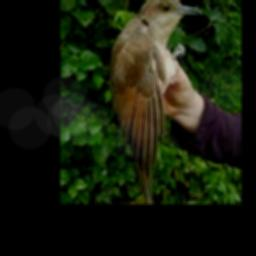Cuckoo: (108, 0, 202, 203)
